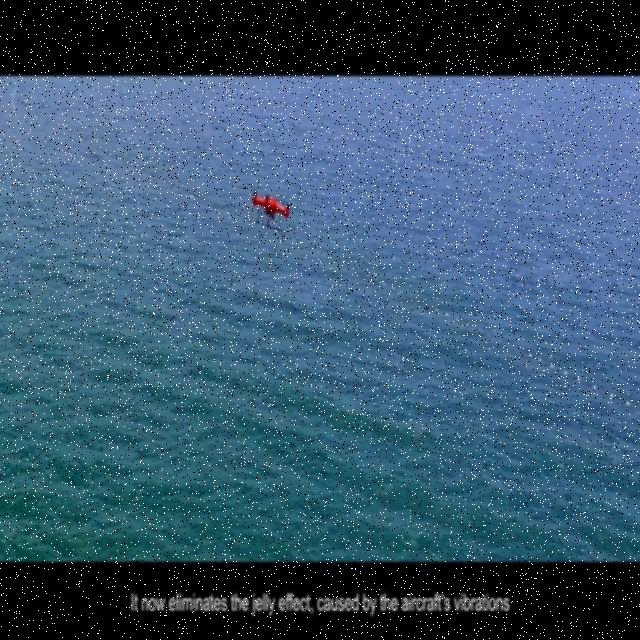UAV: (252, 190, 290, 233)
